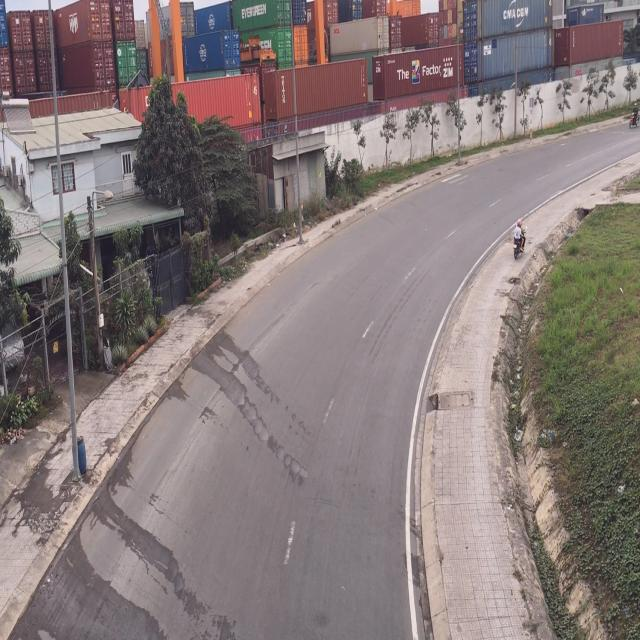motorbike: (513, 221, 529, 260)
